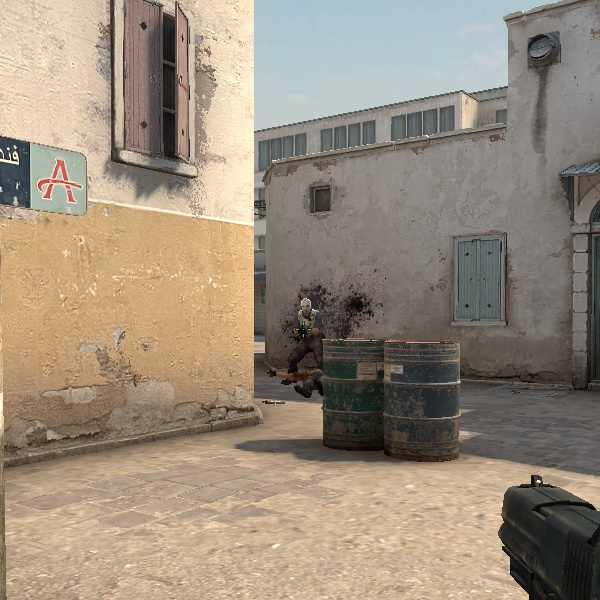t_body: (276, 293, 329, 395)
t_head: (295, 294, 318, 319)
